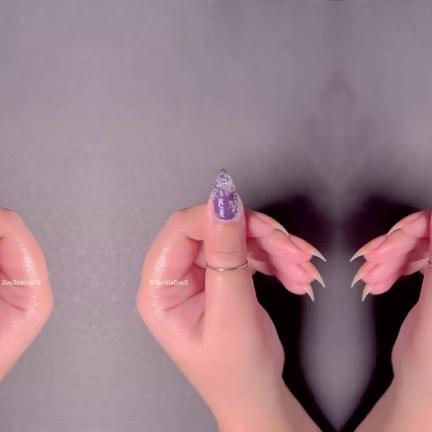Nail: (212, 168, 238, 221), (250, 210, 288, 236), (386, 210, 424, 236), (289, 235, 325, 262), (349, 235, 385, 262), (298, 261, 324, 288), (350, 261, 376, 288), (300, 283, 313, 302), (361, 283, 374, 302)
